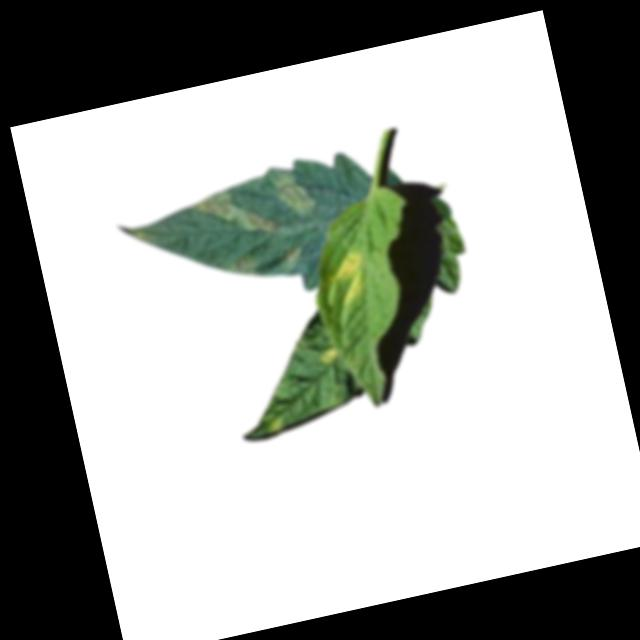Leaf_Mold: (186, 180, 280, 252), (271, 163, 318, 221), (334, 251, 374, 305), (223, 250, 261, 285), (281, 241, 306, 265), (317, 345, 342, 366)
